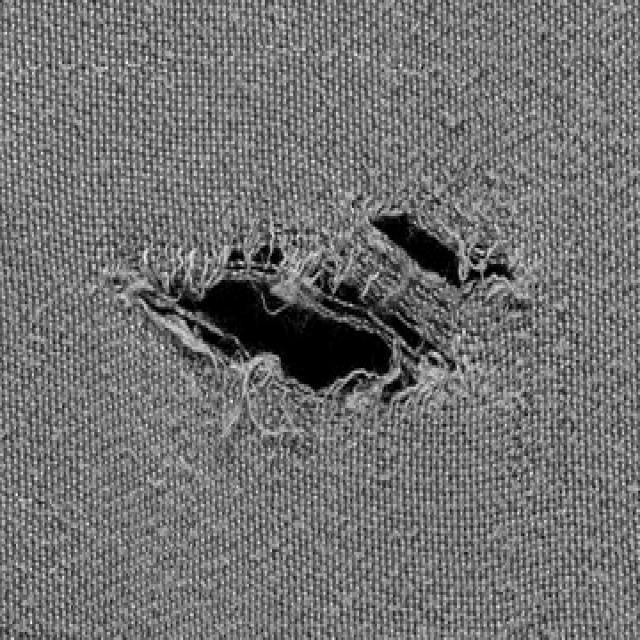Hole: (127, 253, 458, 398), (371, 213, 515, 286)
